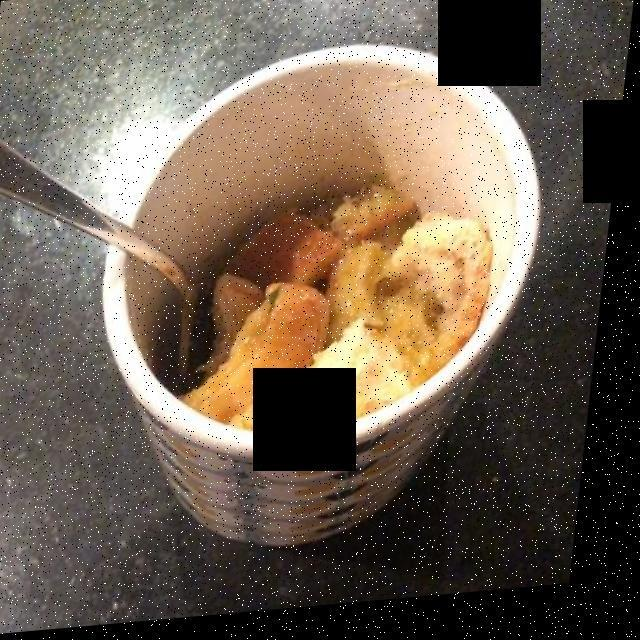bread: (205, 190, 501, 430)
